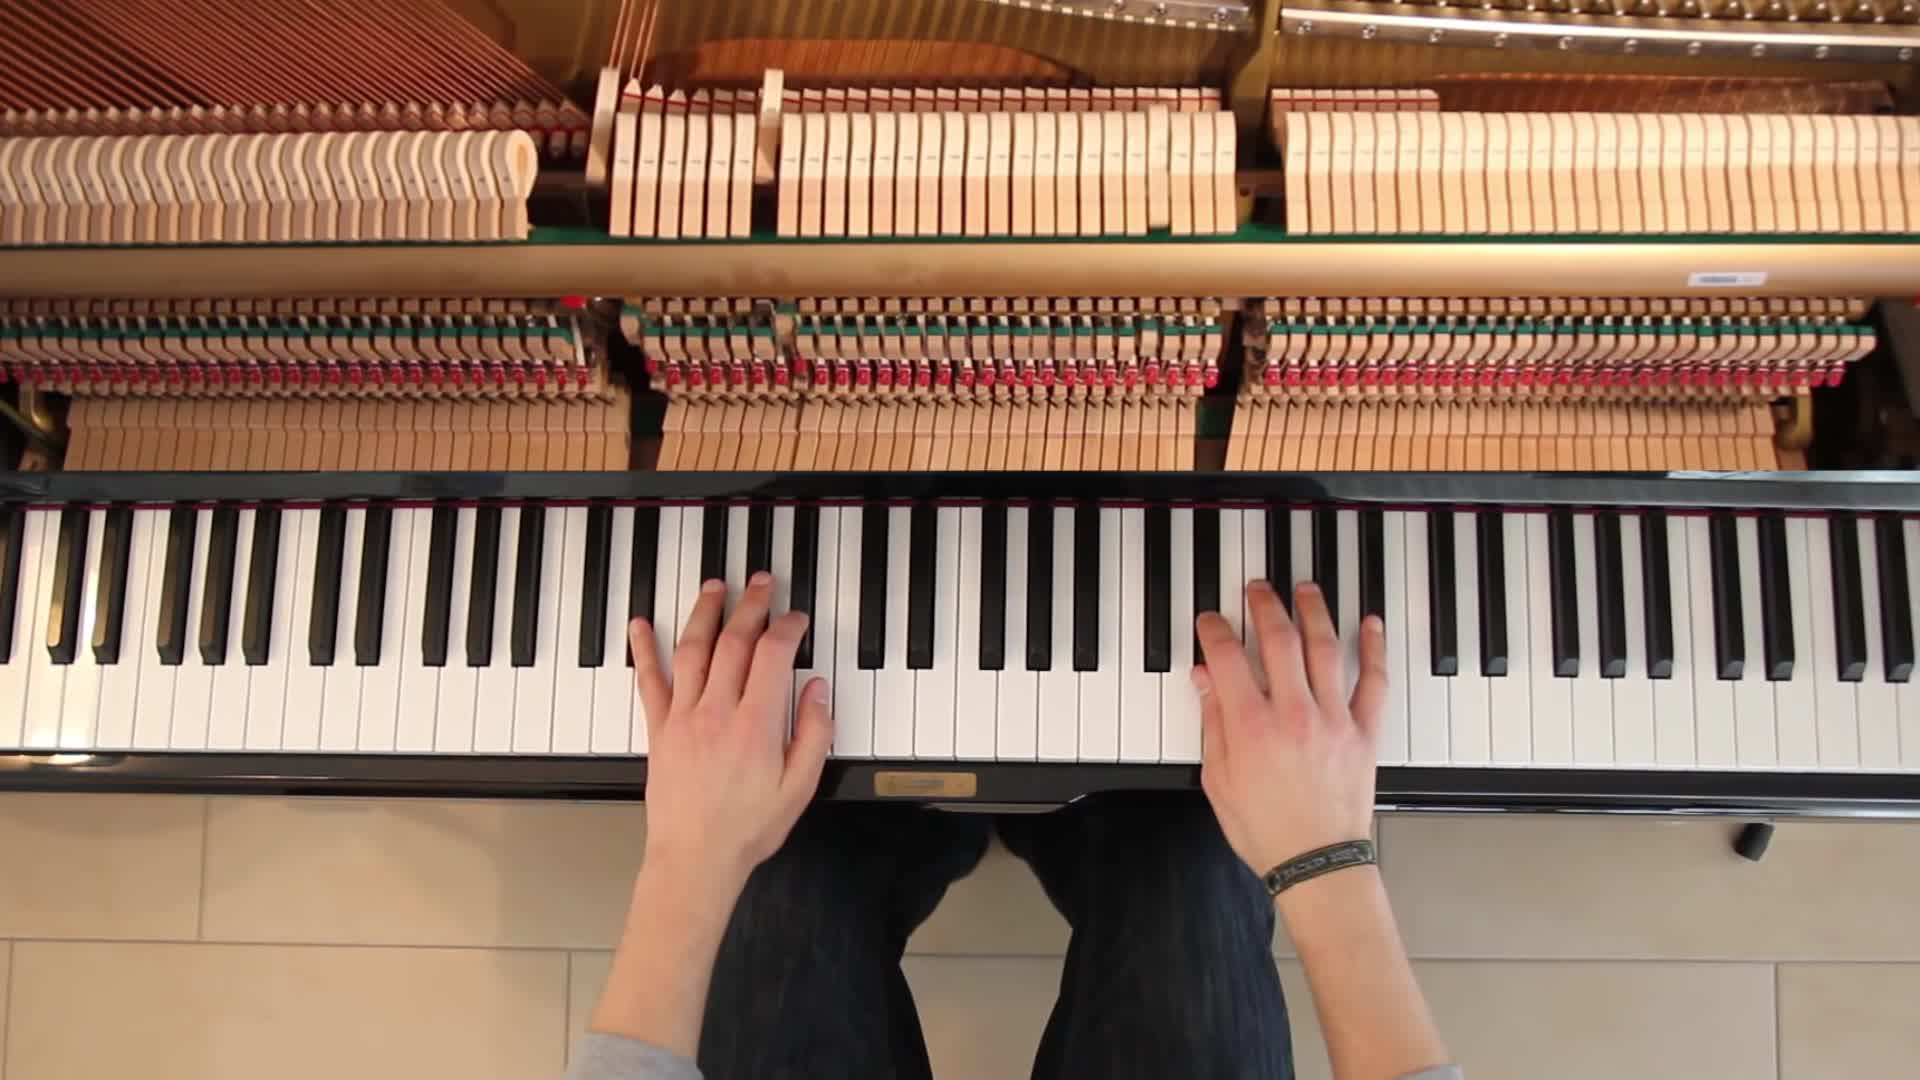left: (613, 564, 837, 837)
right: (1182, 570, 1396, 844)
